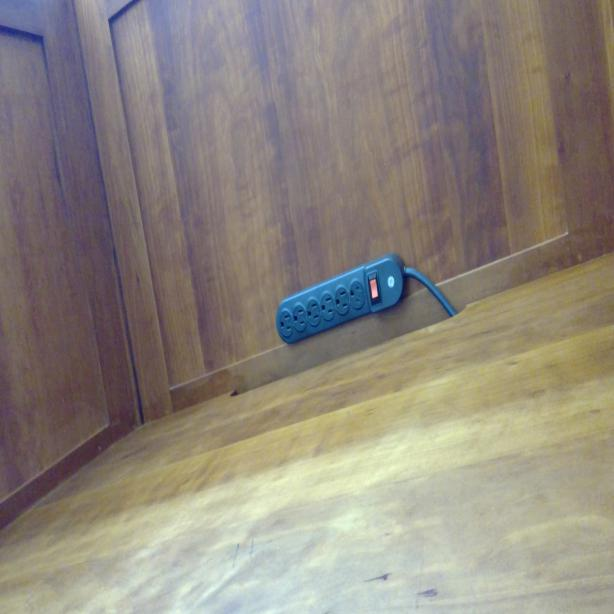typeb: (334, 287, 351, 314), (320, 292, 334, 320), (278, 309, 292, 337), (350, 282, 366, 306), (306, 296, 320, 323), (294, 302, 307, 330)
